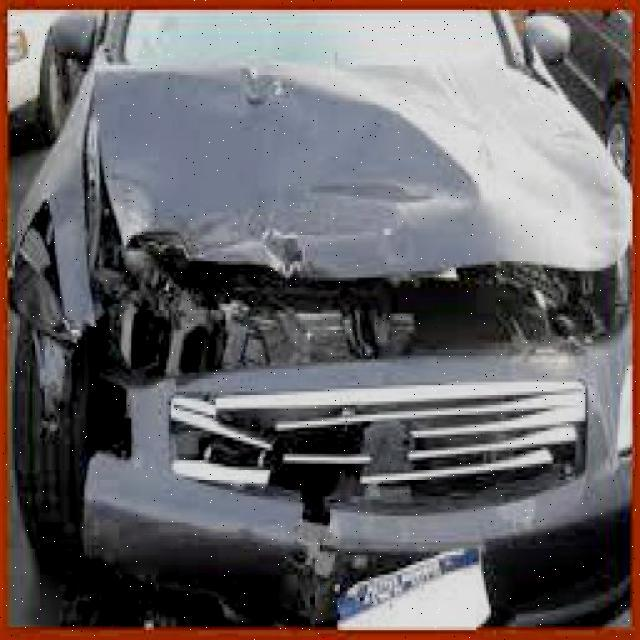car damage: (9, 62, 633, 620)
